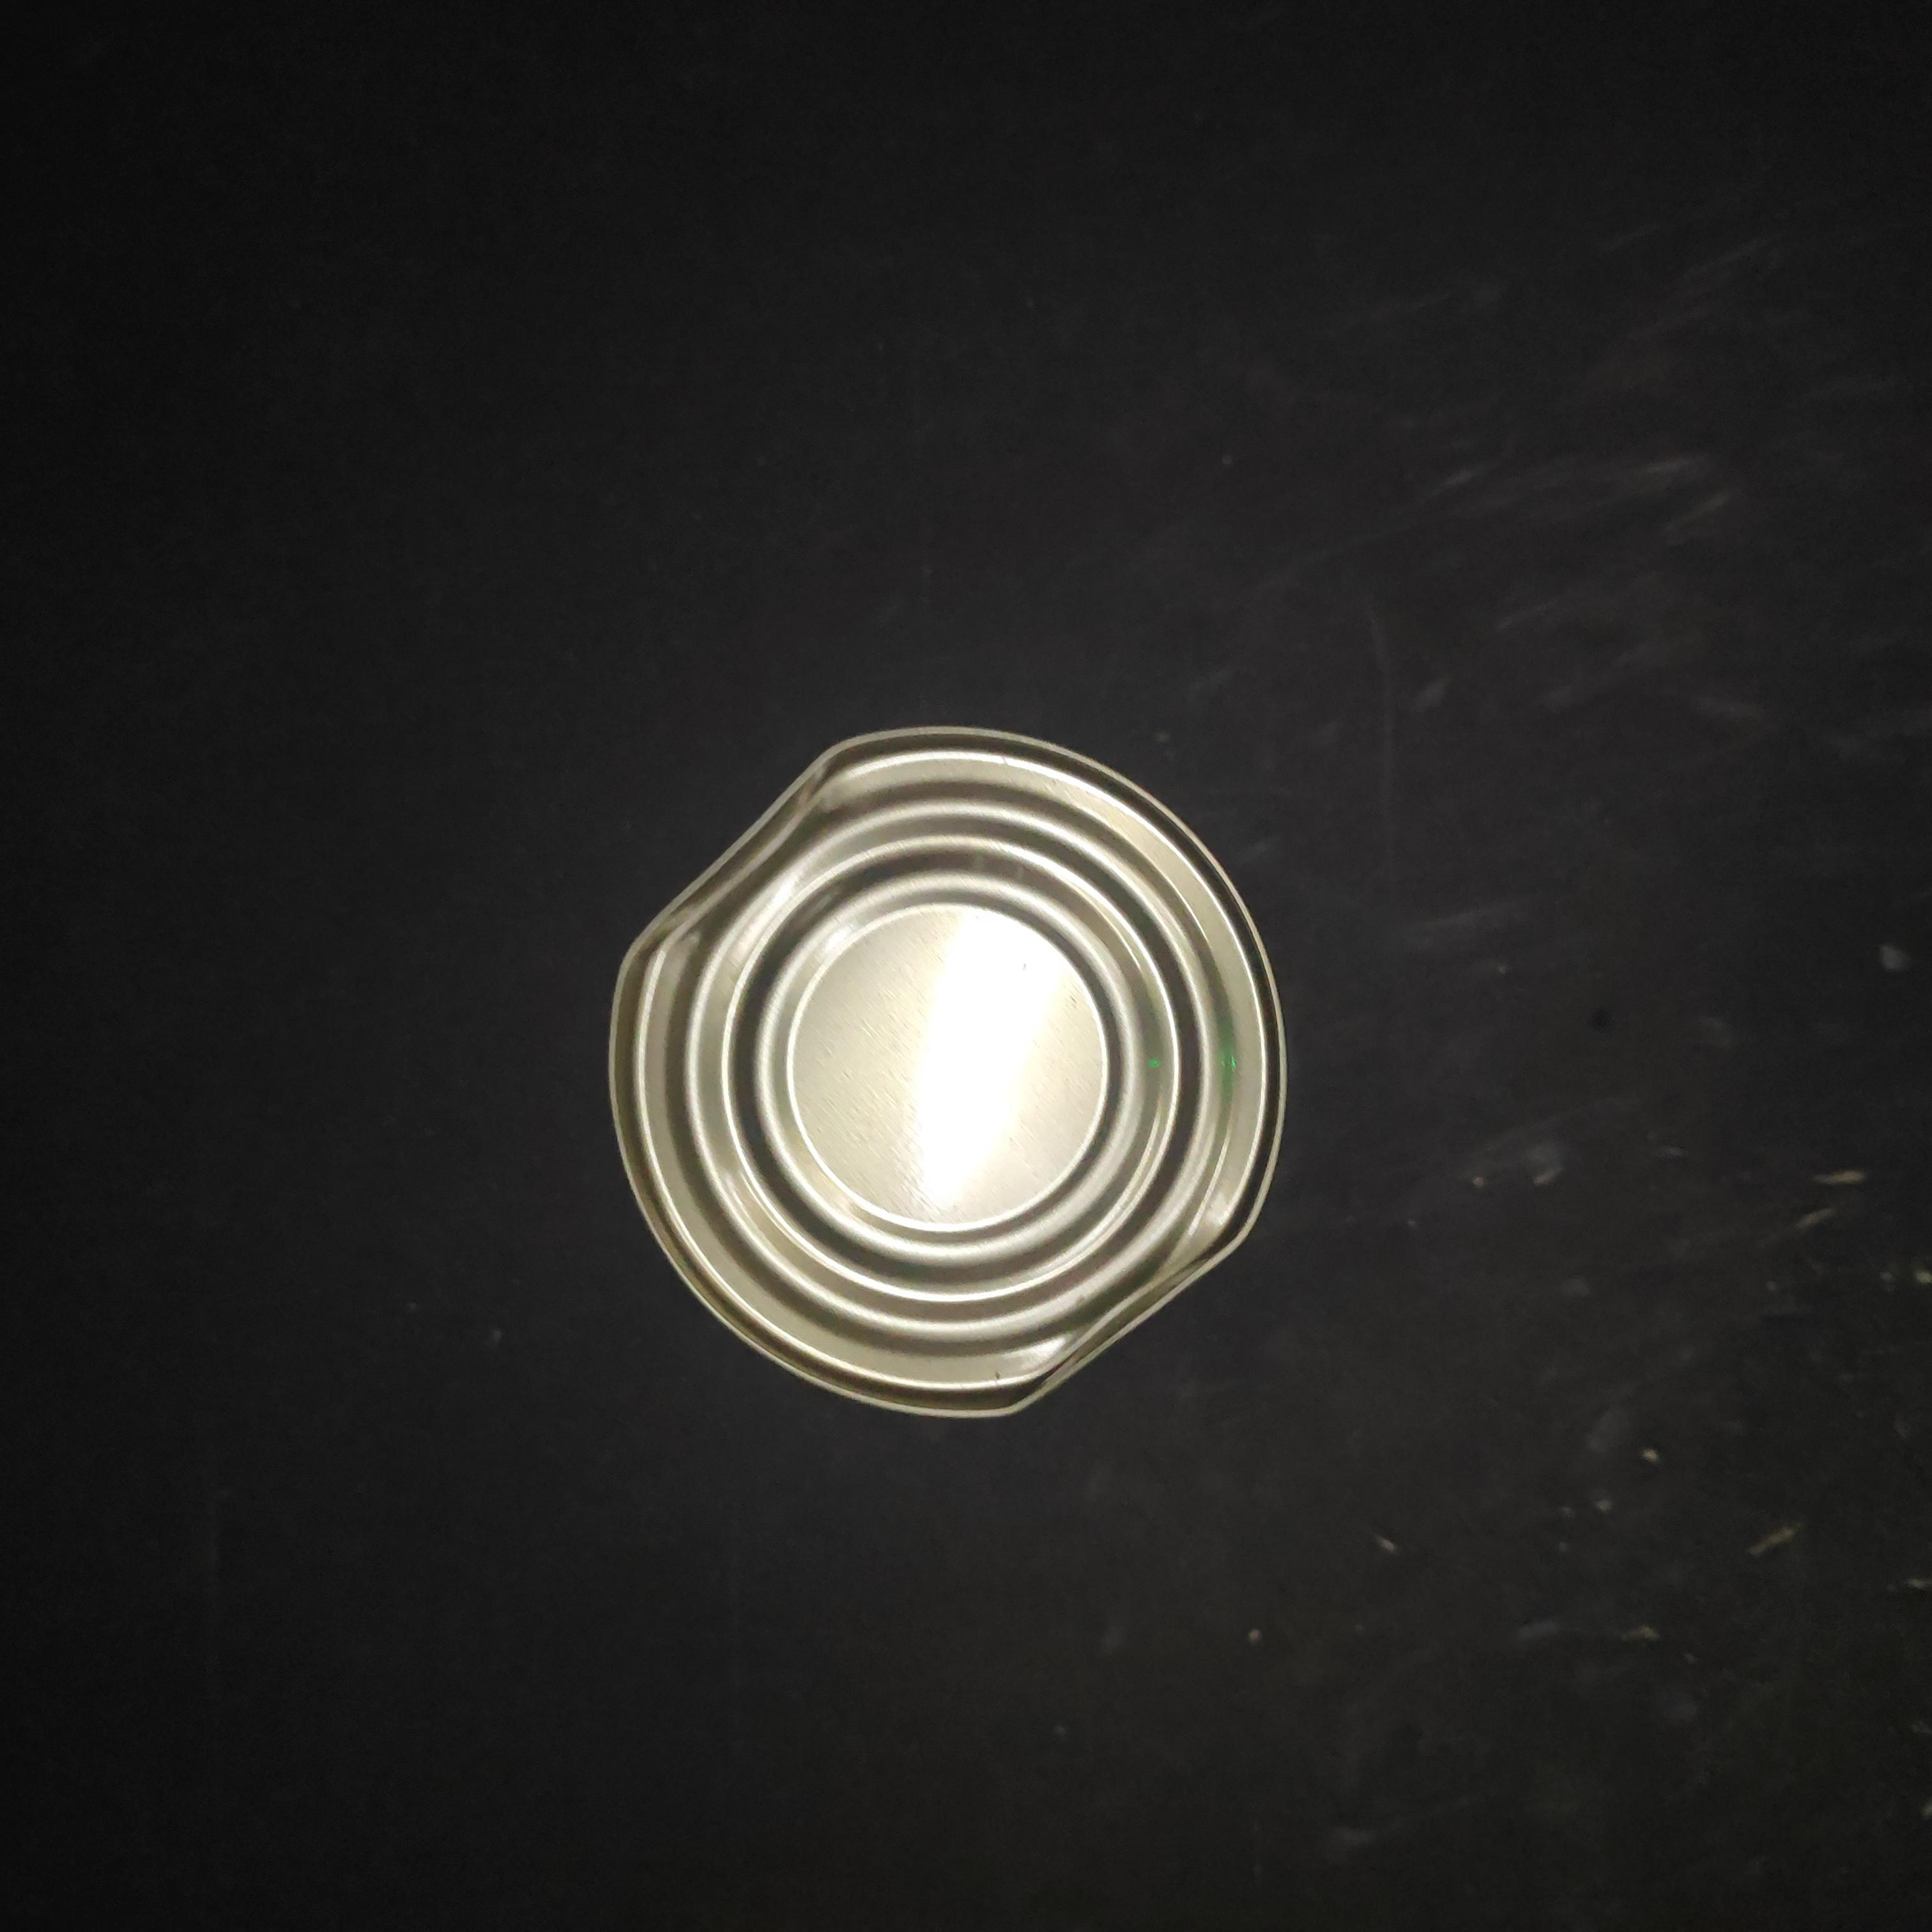Minor Defect: (625, 495, 1366, 1238)
